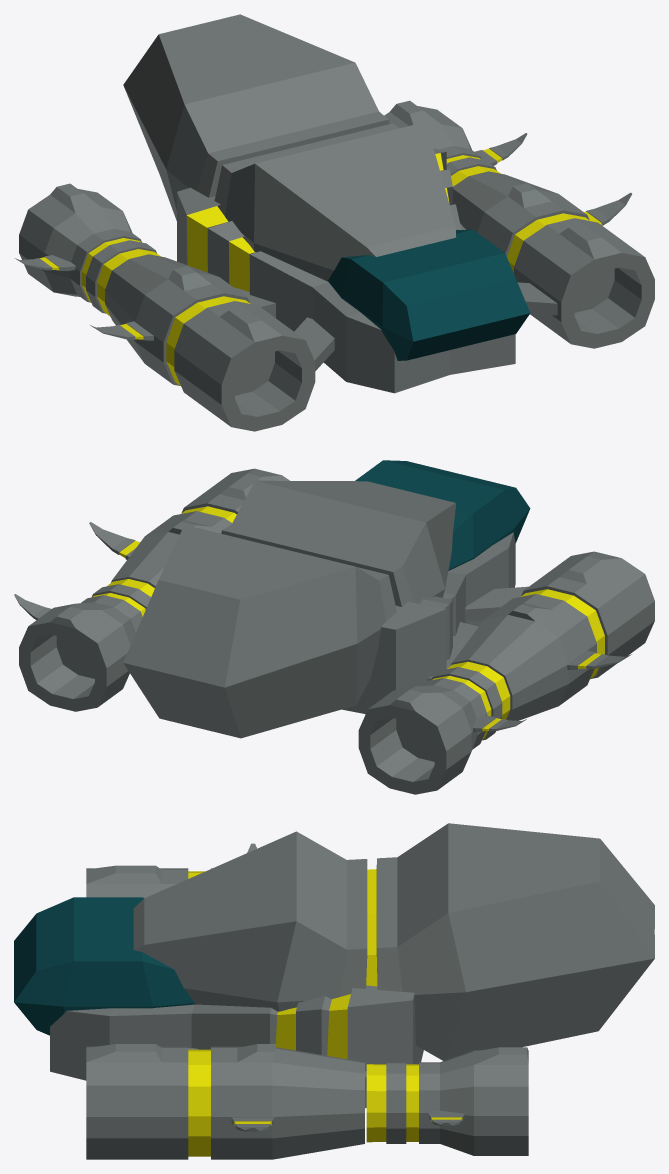
File: fusion-energy-3d.fbx
3 renders of one model, top to bottom at view 1: azimuth 30°, elevation 25°; view 2: azimuth 150°, elevation 25°; view 3: azimuth 270°, elevation 25°, orthographic. The views are drawn at different scales.
Visible parts, largest first — view 1: spaceship; view 2: spaceship; view 3: spaceship.
Boxes of the visible parts, x1=… form: spaceship: x1=14, y1=14, x2=654, y2=431; spaceship: x1=14, y1=460, x2=654, y2=794; spaceship: x1=14, y1=823, x2=654, y2=1159.
Bounding box in the file's own units: 802 × 266 × 764.
